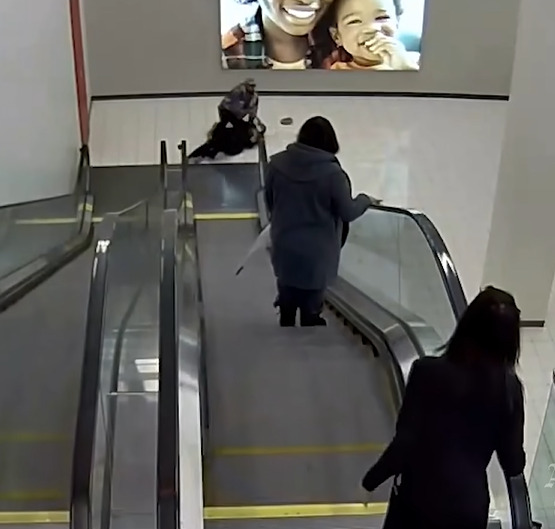person: (357, 285, 538, 524), (262, 114, 384, 330), (189, 121, 268, 163), (216, 79, 259, 127)
